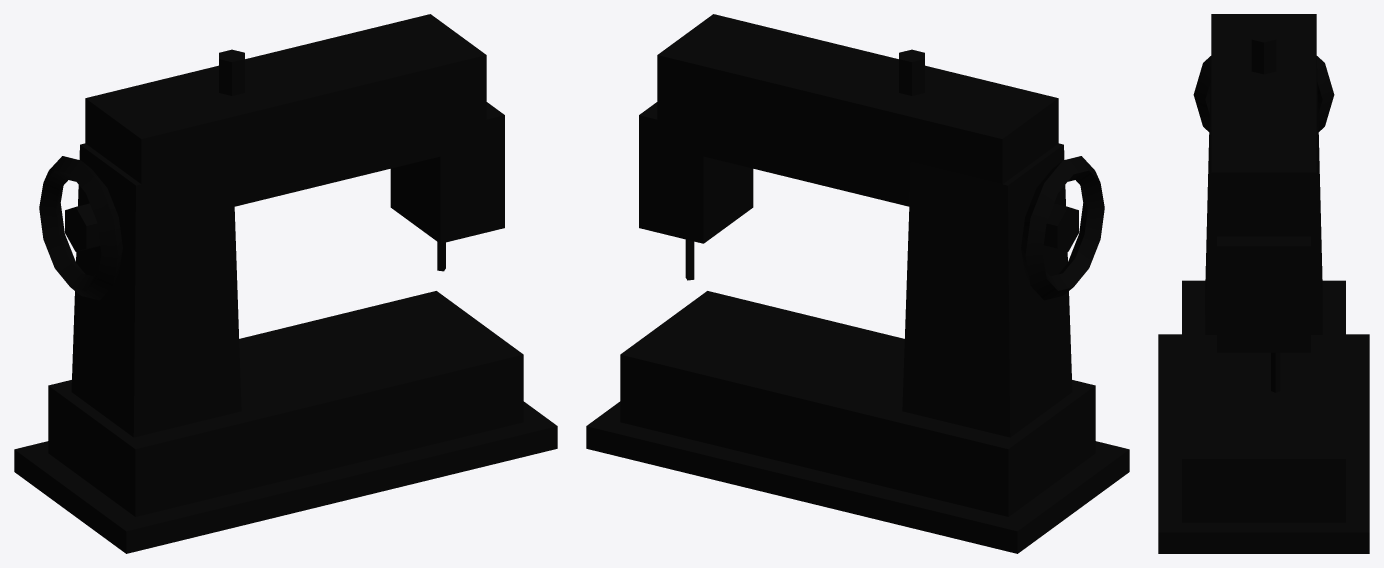
The model's file is SM_sewing_machine.fbx.
3 views of the same model, side by side, from view 1: azimuth 30°, elevation 25°; view 2: azimuth 150°, elevation 25°; view 3: azimuth 270°, elevation 25° (orthographic). The views are drawn at different scales.
Visible parts, largest first — view 1: sewing_machine, sewing_machine_crank; view 2: sewing_machine, sewing_machine_crank; view 3: sewing_machine, sewing_machine_crank.
Part boxes in pixels (left/top/right/bottom): sewing_machine: left=14, top=14, right=557, bottom=553; sewing_machine_crank: left=39, top=156, right=122, bottom=300; sewing_machine: left=586, top=14, right=1129, bottom=553; sewing_machine_crank: left=1021, top=156, right=1104, bottom=300; sewing_machine: left=1158, top=14, right=1369, bottom=553; sewing_machine_crank: left=1193, top=56, right=1334, bottom=131.
Size of the model in its own units: 0.4 by 0.37 by 0.18.
